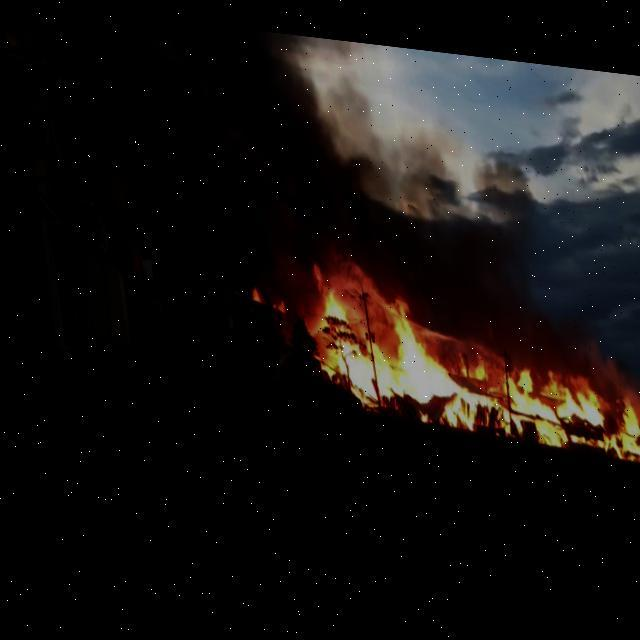Fire: (294, 257, 639, 451), (240, 280, 258, 302), (263, 291, 276, 308)
